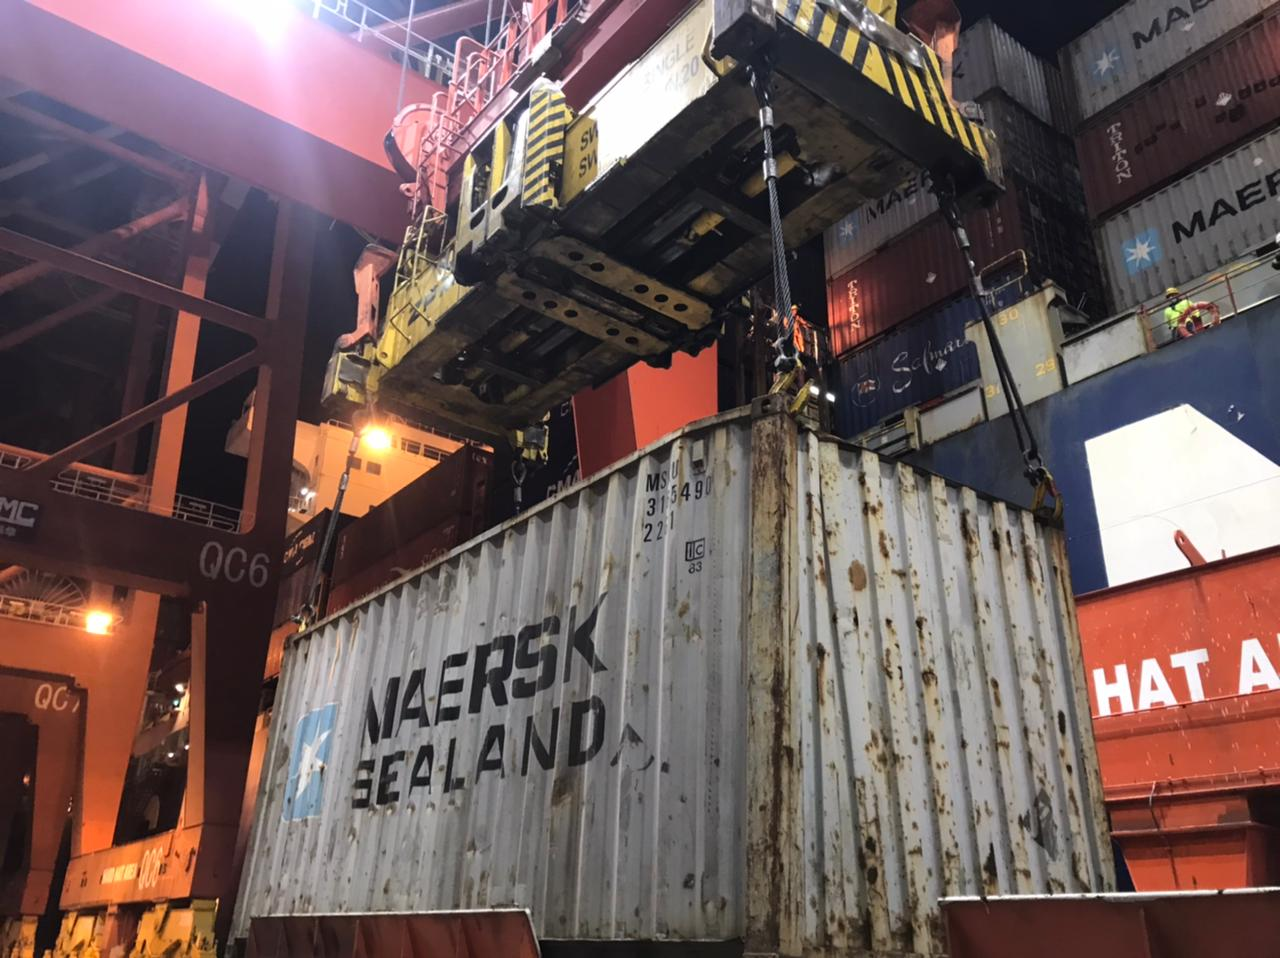dented: (333, 781, 475, 831), (536, 761, 580, 821)
rust: (815, 586, 1077, 858)
